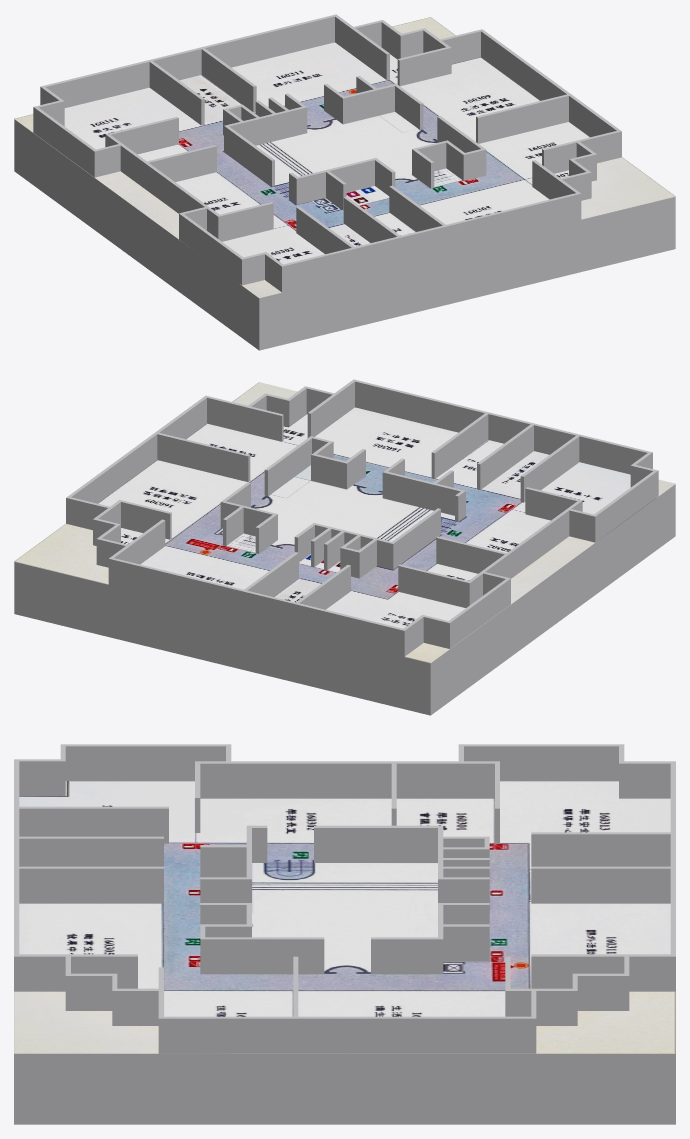
File: Administration-3F-cube.glb
The picture shows the model from 3 angles, top to bottom: view 1: azimuth 30°, elevation 25°; view 2: azimuth 150°, elevation 25°; view 3: azimuth 270°, elevation 25°; orthographic projection. The views are drawn at different scales.
Visible parts, largest first — view 1: Cube, Plane; view 2: Cube, Plane; view 3: Cube, Plane.
Boxes of the visible parts, left/top/right/bottom form: Cube: left=14, top=14, right=675, bottom=350; Plane: left=14, top=17, right=675, bottom=297; Cube: left=14, top=379, right=675, bottom=715; Plane: left=14, top=382, right=675, bottom=662; Cube: left=14, top=744, right=675, bottom=1124; Plane: left=14, top=781, right=675, bottom=1053.
Bounding box in the file's own units: 16.7 × 3 × 17.
Materials: 2 (1 with a texture image).
